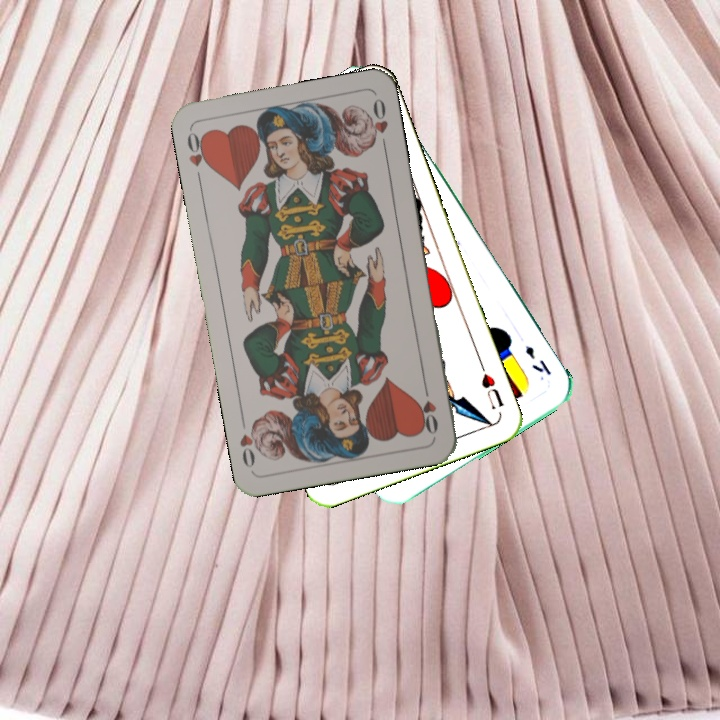EK: (521, 341, 554, 378)
HO: (183, 128, 213, 185), (417, 379, 441, 438)
HU: (476, 359, 507, 413)
